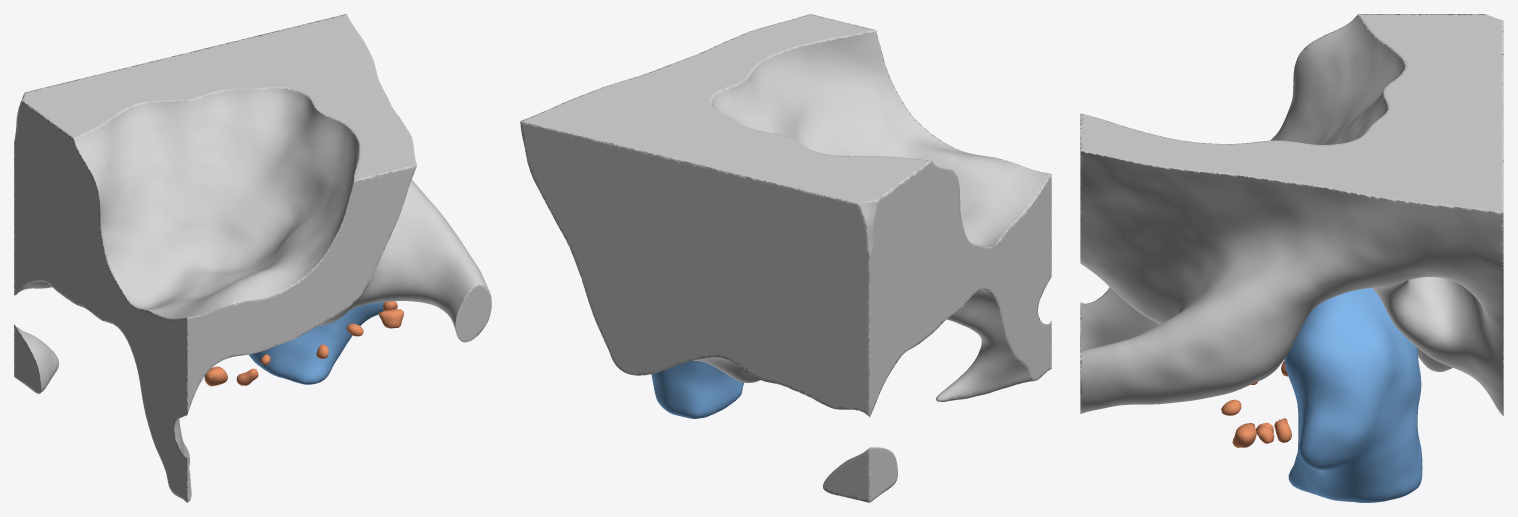
Rendered from asset.glb.
The picture shows the model from 3 angles, left to right: view 1: azimuth 30°, elevation 25°; view 2: azimuth 150°, elevation 25°; view 3: azimuth 270°, elevation 25°; orthographic projection. The views are drawn at different scales.
Visible parts, largest first — view 1: all parts 2; view 2: all parts 2; view 3: all parts 2.
Boxes of the visible parts, box(x1,y1,x2,y2) form: all parts 2: box(14, 14, 491, 502); all parts 2: box(520, 14, 1051, 502); all parts 2: box(1080, 14, 1503, 502).
Size of the model in its own units: 48.77 by 39.67 by 44.
